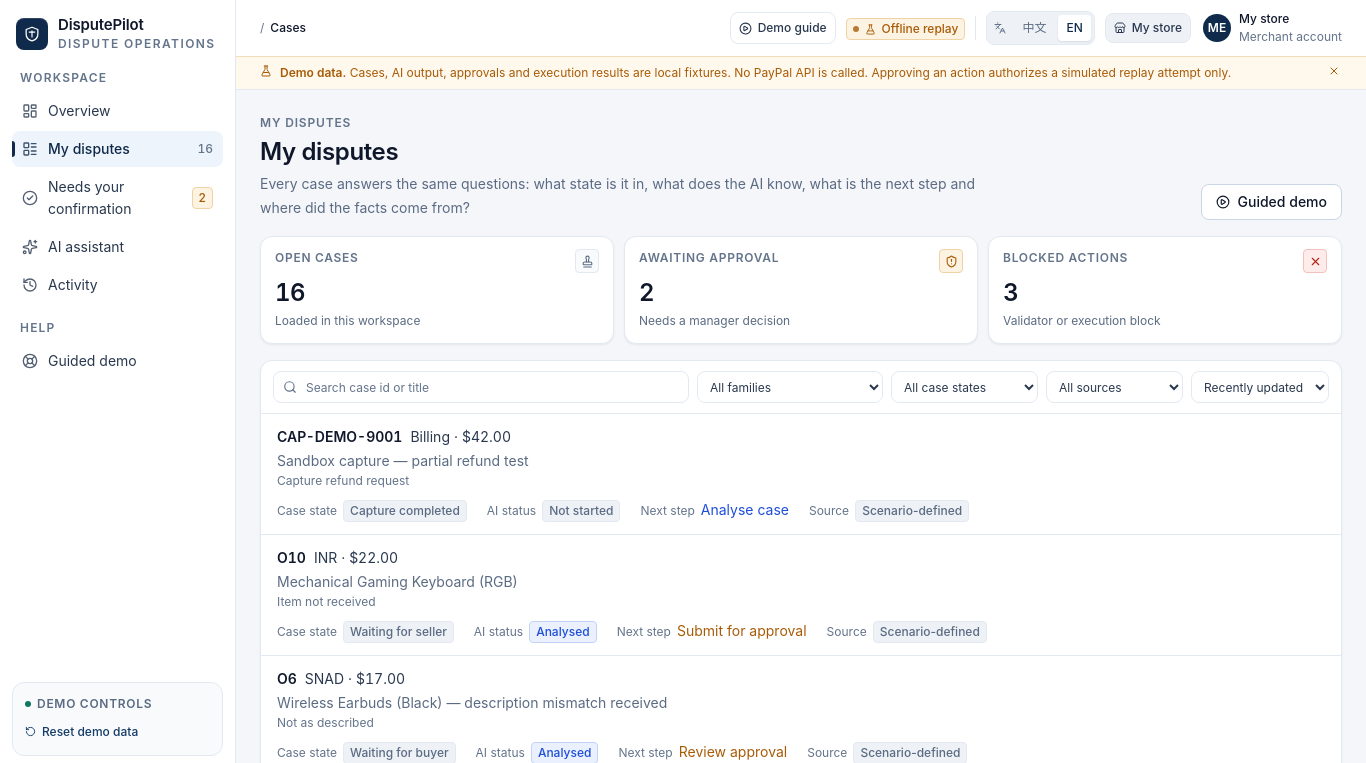
Test: DisputePilot workspace › exposes every workspace item to the single merchant identity
Check: the heading "My disputes" is shown, box left=260, top=137, right=398, bottom=166
Click the link "Needs your confirmation 2" at (118, 198), box left=12, top=169, right=223, bottom=227
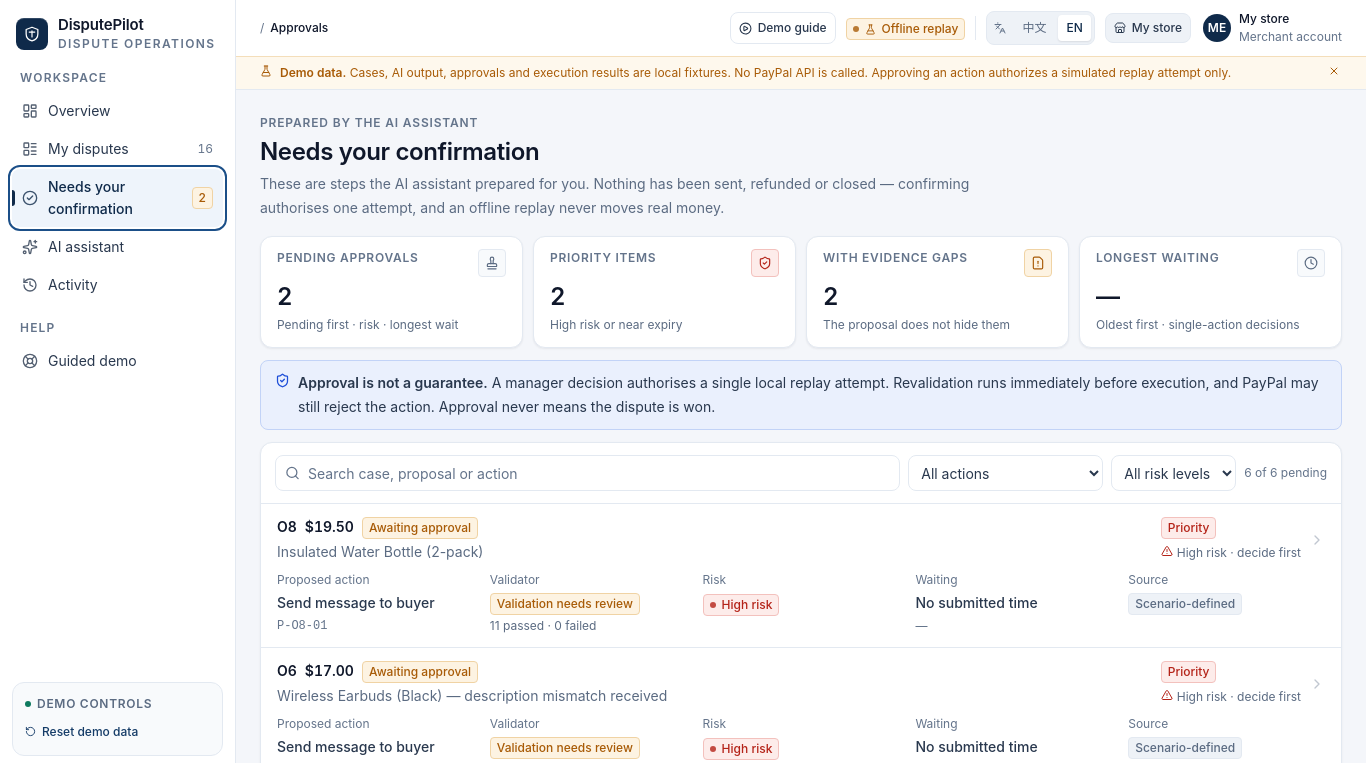
Check: the heading "Needs your confirmation" is shown, box left=260, top=137, right=539, bottom=166
